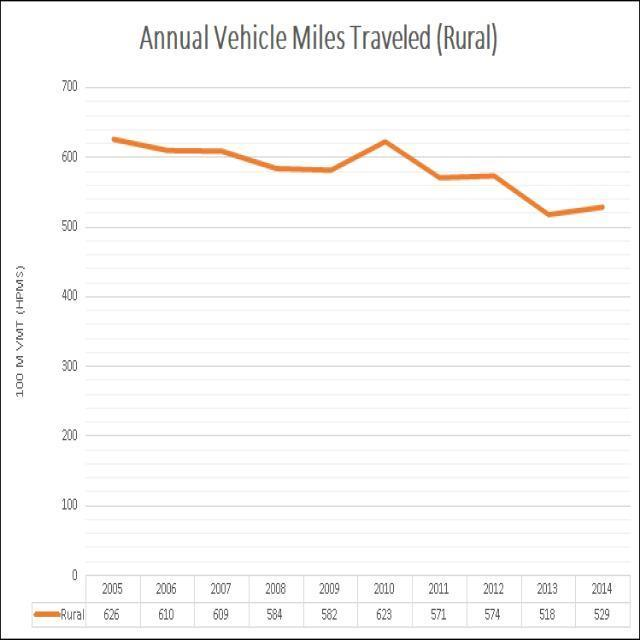axis: (78, 73, 94, 579)
line: (110, 132, 609, 221)
